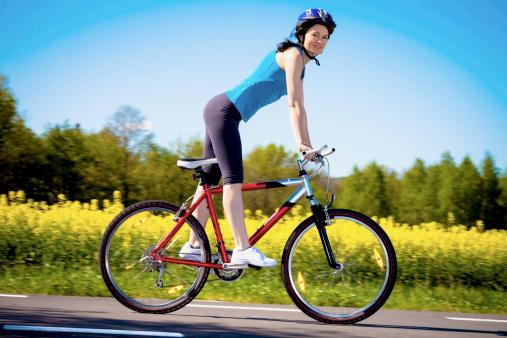With Helmet: (282, 5, 347, 67)
